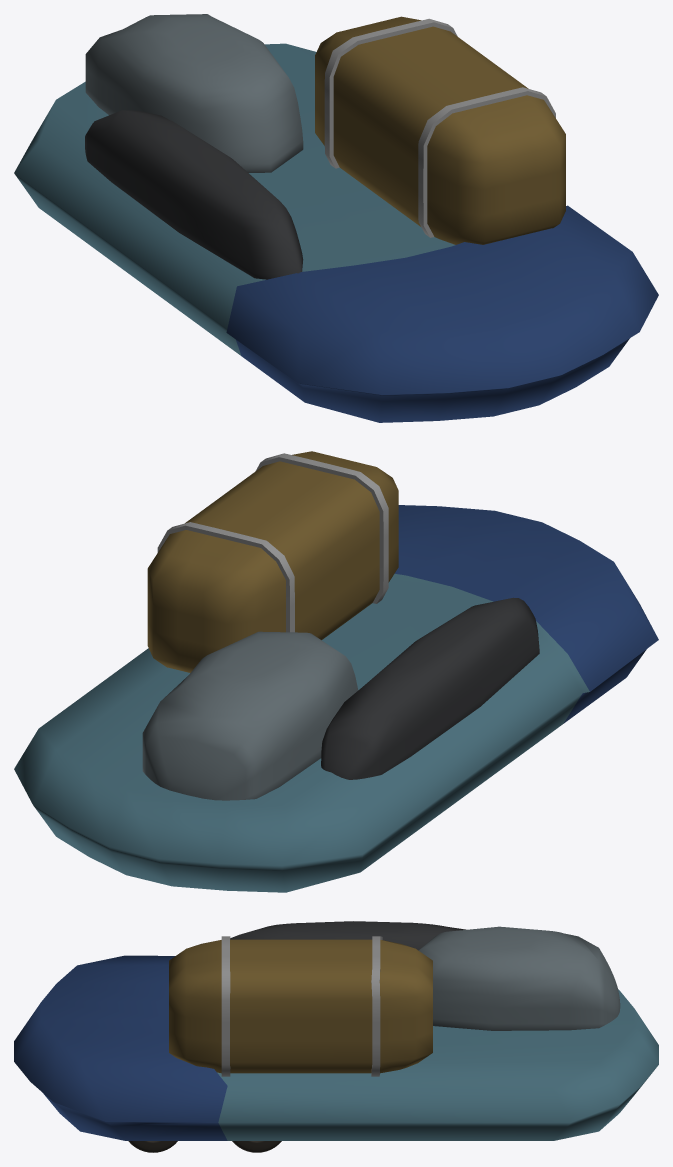
Rendered from Ship1.fbx.
3 renders of one model, top to bottom at view 1: azimuth 30°, elevation 25°; view 2: azimuth 150°, elevation 25°; view 3: azimuth 270°, elevation 25°, orthographic. The views are drawn at different scales.
Visible parts, largest first — view 1: pCube1, pCube2, pCube3, pasted__pCube3; view 2: pCube1, pCube2, pCube3, pasted__pCube3; view 3: pCube1, pCube2, pCube3, pasted__pCube3, pasted__pasted__pCylinder1, pasted__pCylinder1.
Part boxes in pixels (box(x1,y1,x2,y2)): pCube1: box(14, 43, 658, 422); pCube2: box(315, 16, 565, 244); pCube3: box(85, 14, 303, 172); pasted__pCube3: box(85, 110, 303, 279); pCube1: box(14, 505, 658, 892); pCube2: box(147, 451, 398, 672); pCube3: box(142, 631, 358, 800); pasted__pCube3: box(321, 597, 539, 779); pCube1: box(14, 955, 658, 1140); pCube2: box(169, 936, 432, 1076); pCube3: box(418, 926, 620, 1030); pasted__pCube3: box(230, 921, 465, 950); pasted__pasted__pCylinder1: box(232, 1141, 281, 1152); pasted__pCylinder1: box(128, 1141, 177, 1152).
Size of the model in its own units: 7.88 by 5.18 by 15.09.
